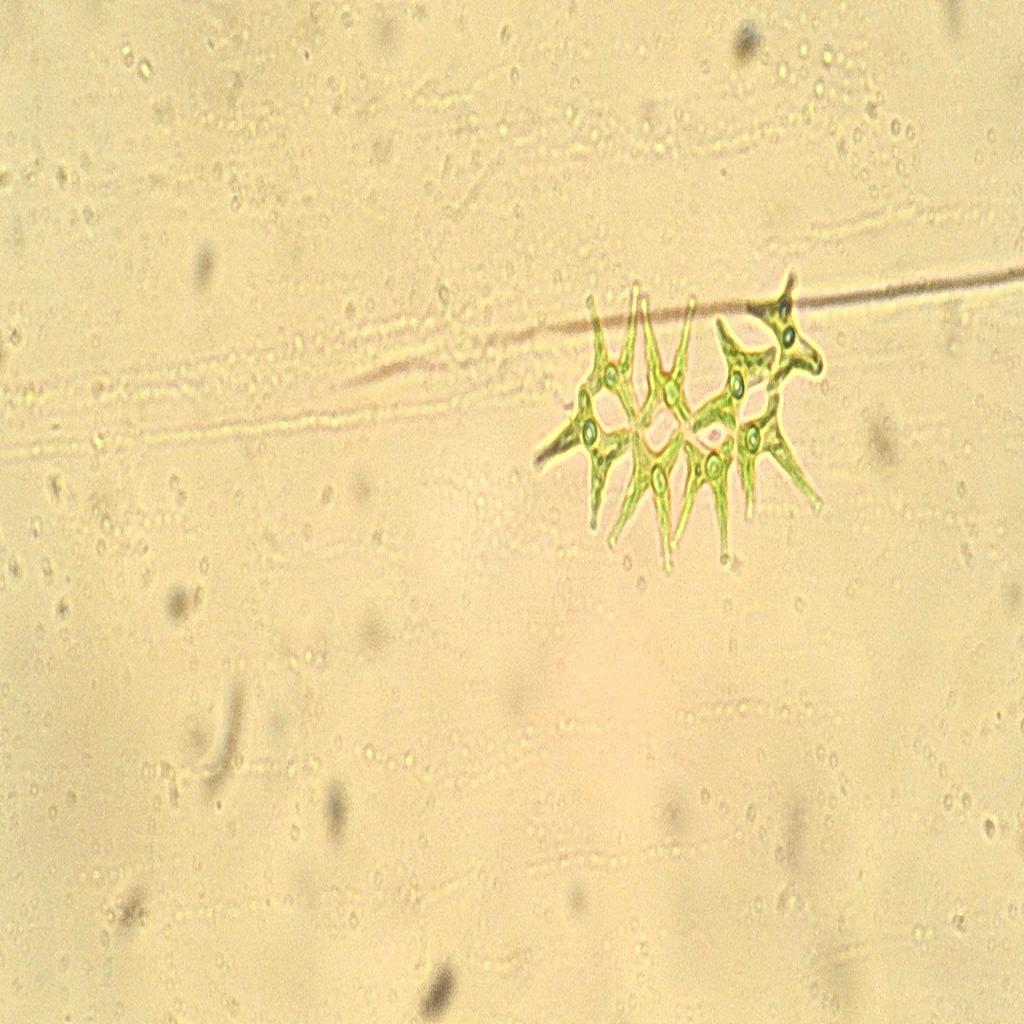Pediastrum_CFI: (524, 244, 832, 606)
